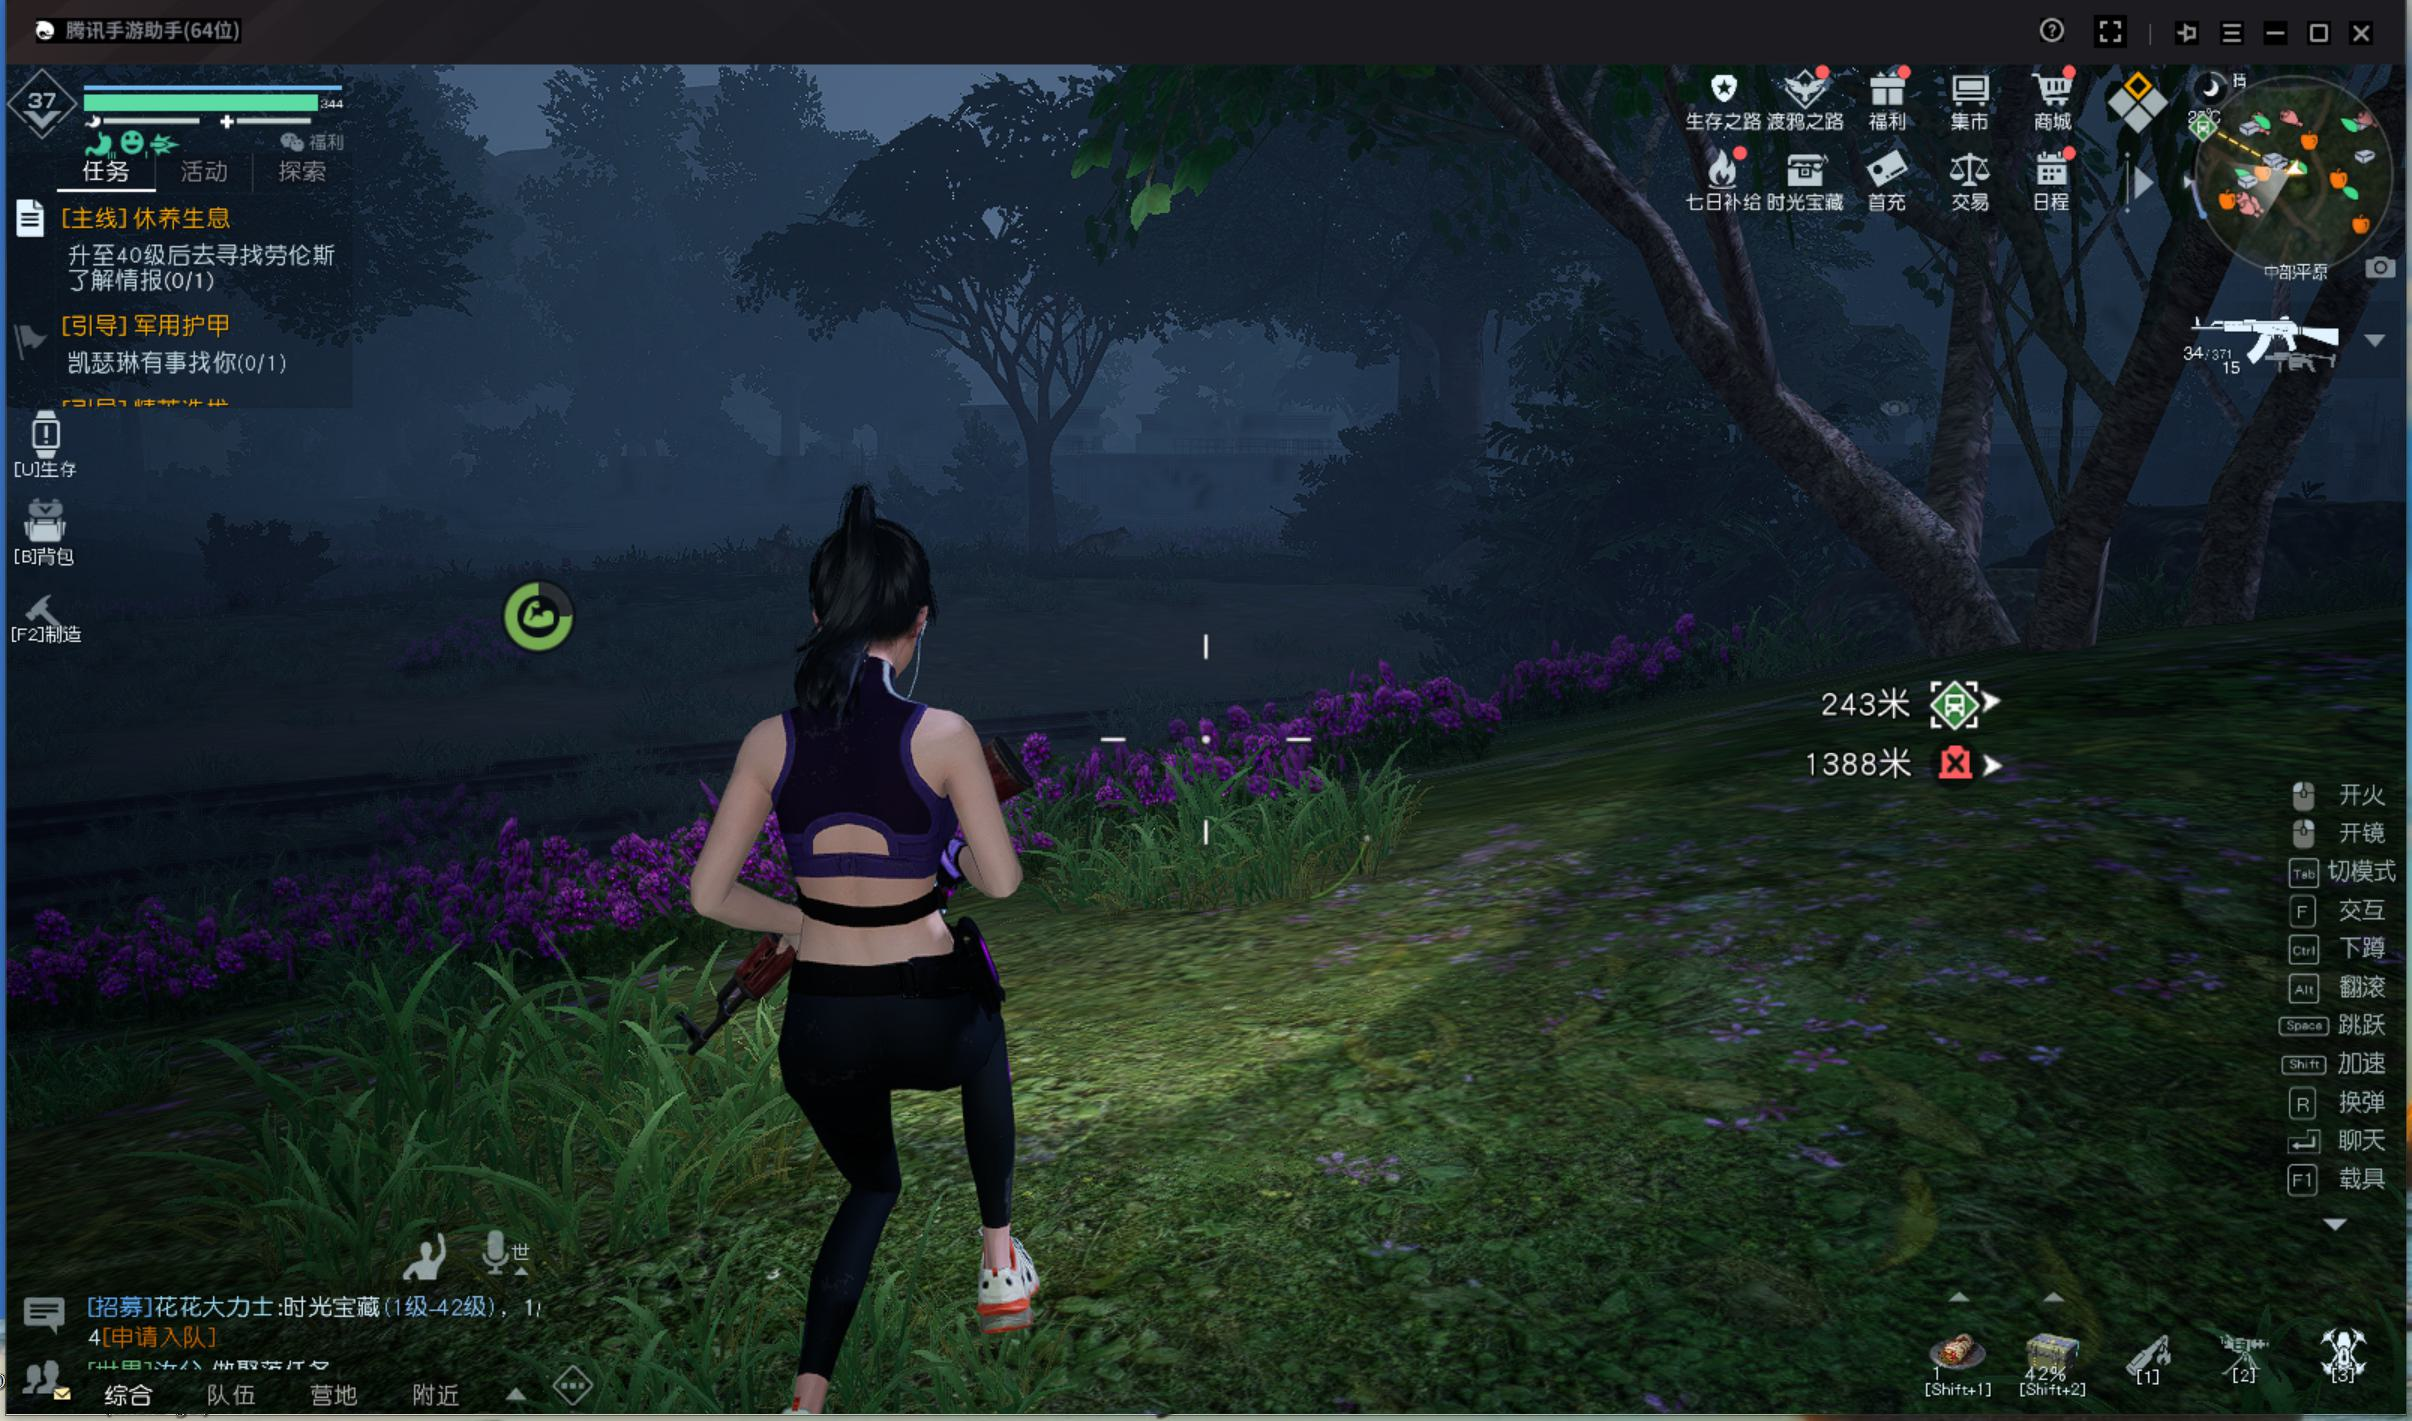tree: (1421, 343, 1505, 535), (1001, 430, 1077, 567)
